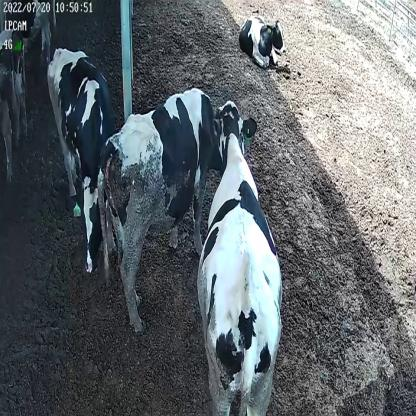cow: (99, 84, 227, 334), (196, 98, 284, 416), (46, 47, 118, 281), (237, 5, 287, 70)
